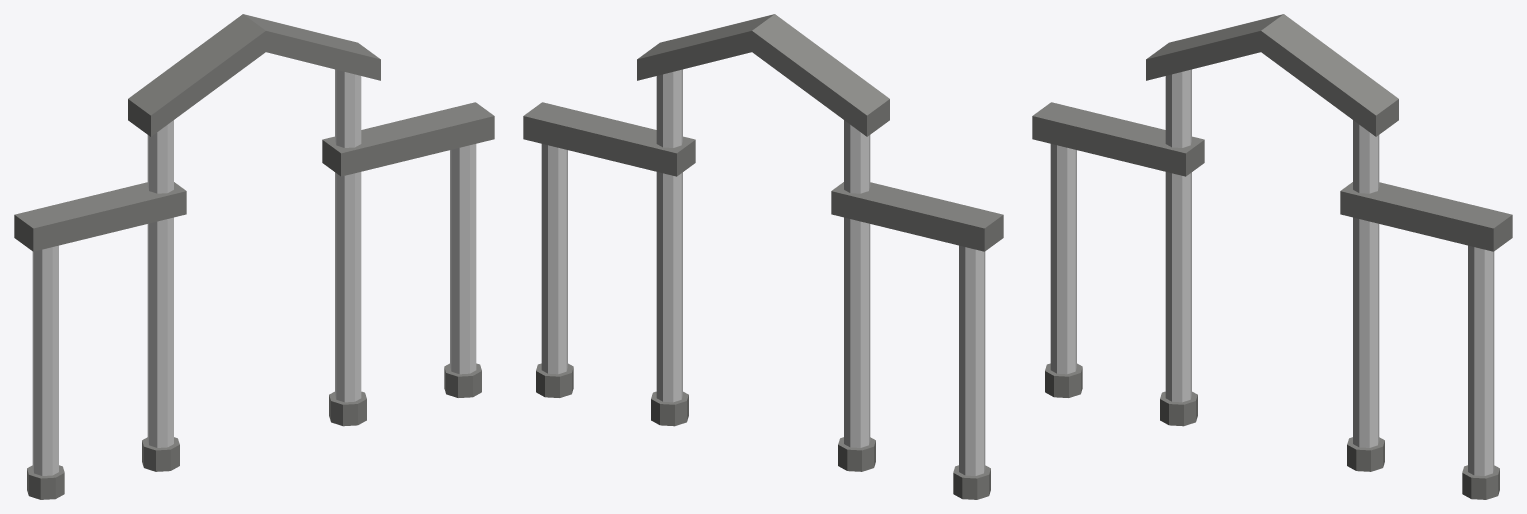
File: Gate-01.fbx
3 renders of one model, left to right at view 1: azimuth 30°, elevation 25°; view 2: azimuth 150°, elevation 25°; view 3: azimuth 330°, elevation 25°, orthographic.
Parts seen in each view (by area): view 1: gate; view 2: gate; view 3: gate.
Part boxes in pixels (x1=…): gate: x1=14, y1=14, x2=494, y2=499; gate: x1=523, y1=14, x2=1003, y2=499; gate: x1=1032, y1=14, x2=1512, y2=499.
Size of what is drawn, in the model's own units: 8.87 by 7.7 by 0.7633.
